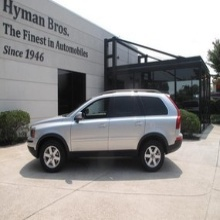no damage: (26, 91, 183, 175)
